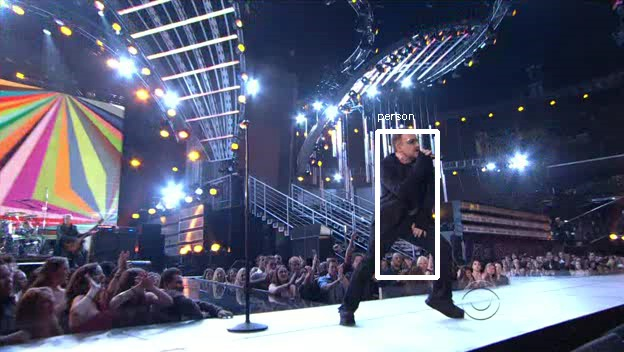person: (373, 129, 446, 258), (370, 129, 443, 258), (376, 129, 449, 258), (373, 126, 446, 255), (373, 132, 446, 261)
target_negative: (365, 198, 527, 236), (501, 134, 555, 228), (121, 307, 294, 330), (135, 171, 148, 322), (122, 337, 238, 350), (415, 336, 605, 343)
